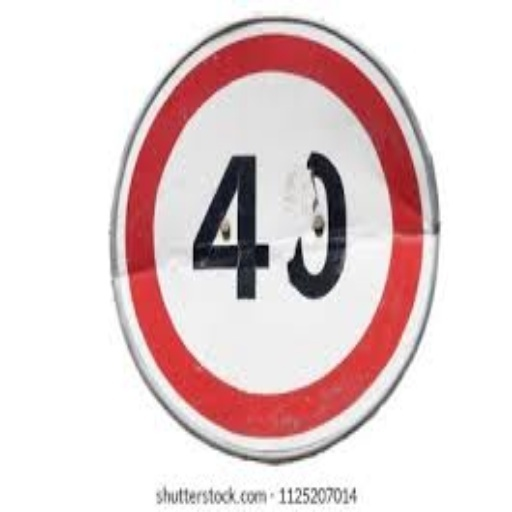Speed limit: (102, 12, 474, 475)
